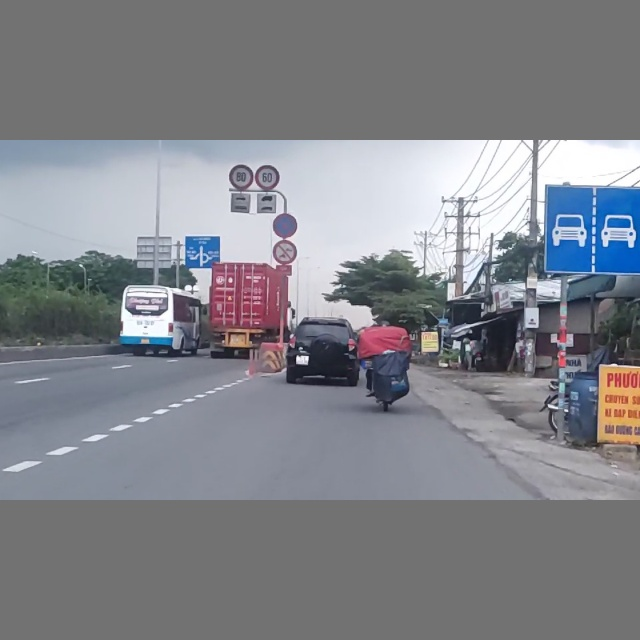P.111: (272, 239, 297, 265)
P.127*60: (255, 165, 281, 190)
P.127*80: (228, 164, 253, 190)
P.130: (272, 213, 298, 237)
R.415a: (544, 183, 631, 277)
